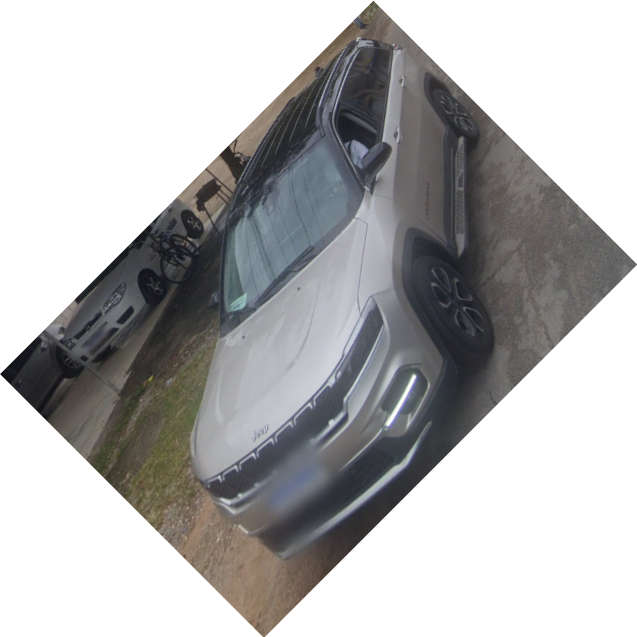car: (186, 34, 495, 554)
